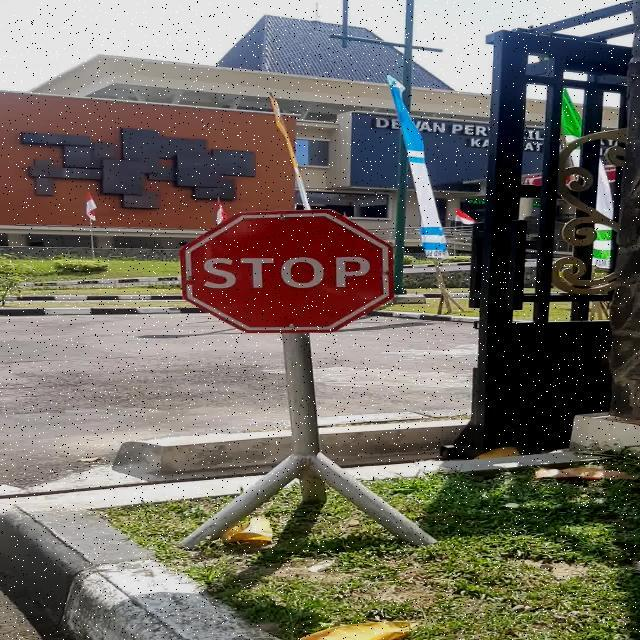Berhenti: (180, 209, 394, 333)
